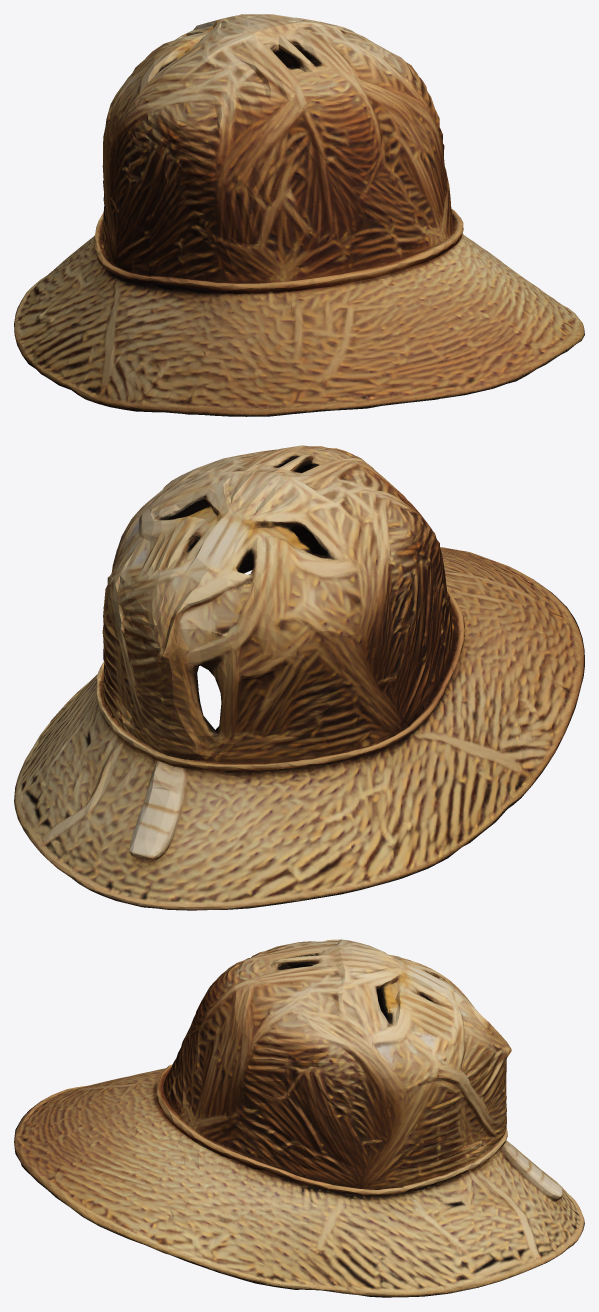
File: woven-reed-hiking-hat-art-deco.jpeg.glb
The picture shows the model from 3 angles, top to bottom: view 1: azimuth 30°, elevation 25°; view 2: azimuth 150°, elevation 25°; view 3: azimuth 270°, elevation 25°; orthographic projection. The views are drawn at different scales.
Parts seen in each view (by area): view 1: world; view 2: world; view 3: world.
Boxes of the visible parts, x1,y1,x2,y2 form: world: (14, 14, 584, 416); world: (14, 445, 584, 910); world: (14, 939, 584, 1297).
Bounding box in the file's own units: 0.7416 × 0.5274 × 0.9998.
1 material, 1 textured.
